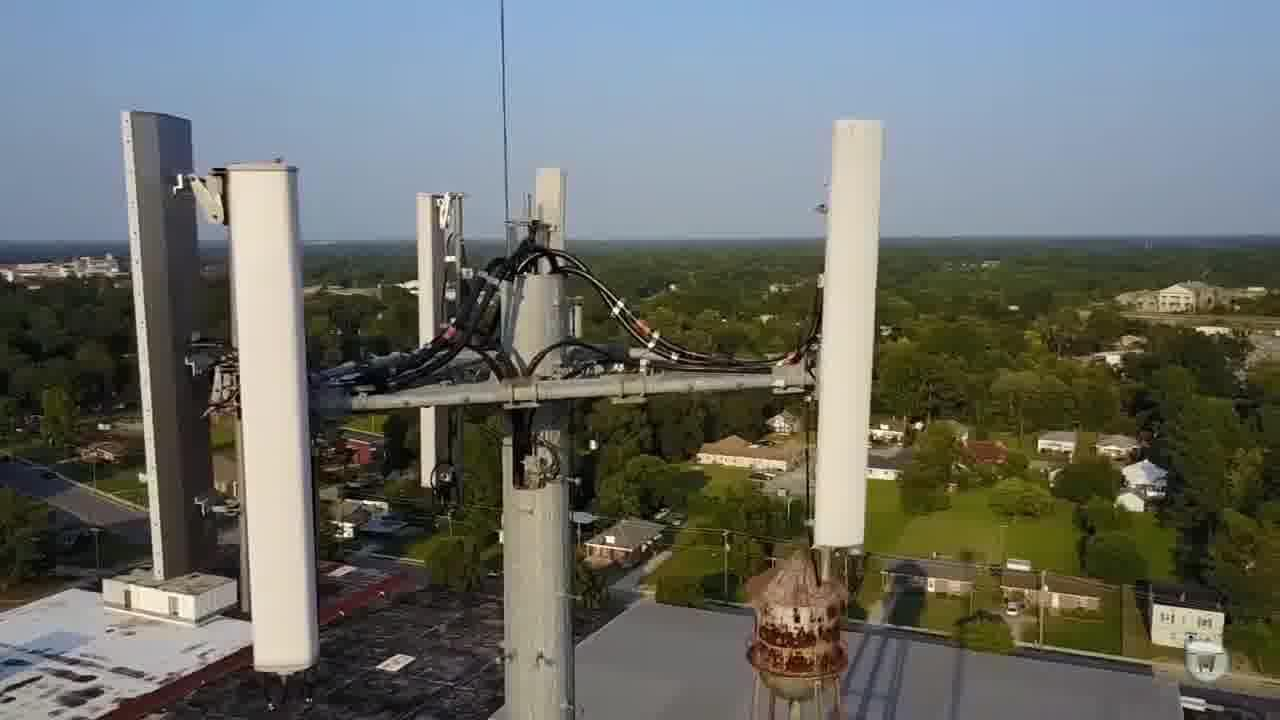antenna: (188, 147, 326, 690), (105, 99, 240, 593), (813, 105, 891, 557), (413, 187, 460, 516), (537, 165, 575, 359)
